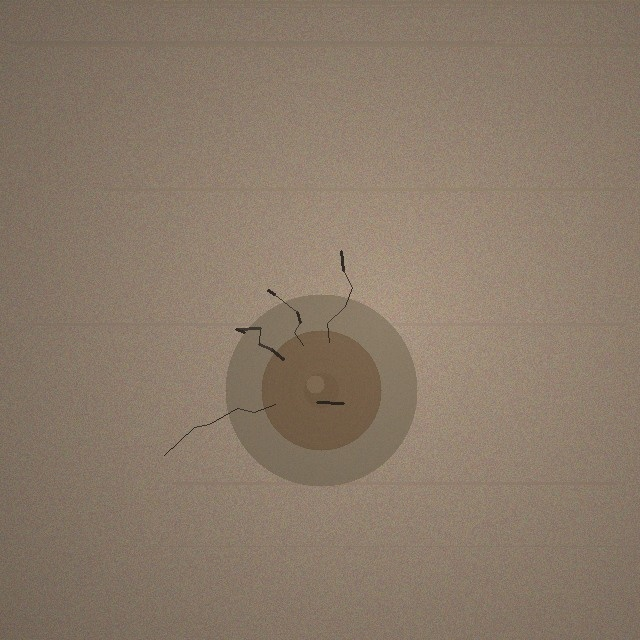crack: (225, 294, 417, 486)
